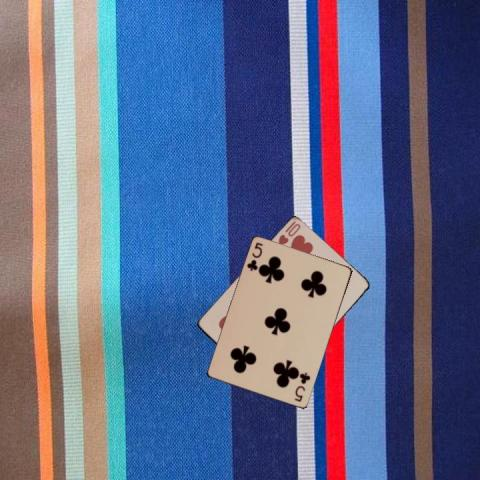10h: (275, 218, 302, 247)
5c: (244, 239, 265, 273), (291, 370, 312, 403)
